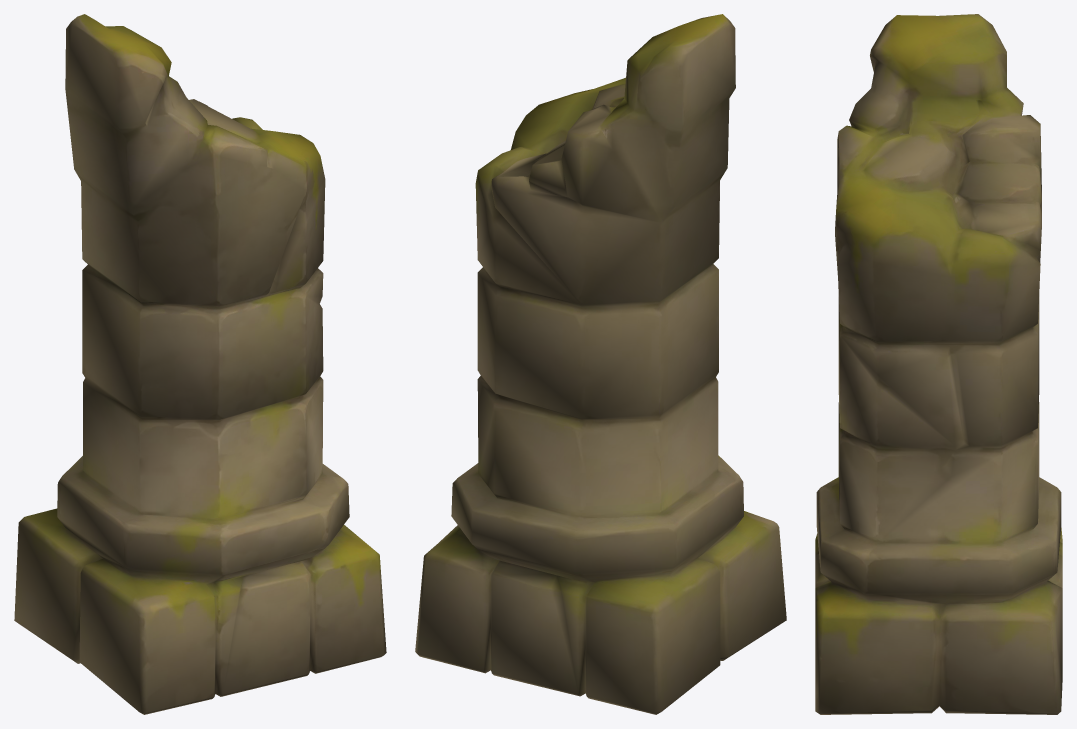
Rendered from SM_FR_BrokenPillar.fbx.
The picture shows the model from 3 angles, left to right: view 1: azimuth 30°, elevation 25°; view 2: azimuth 150°, elevation 25°; view 3: azimuth 270°, elevation 25°; orthographic projection. The views are drawn at different scales.
Visible parts, largest first — view 1: SM_FR_BrokenPillar; view 2: SM_FR_BrokenPillar; view 3: SM_FR_BrokenPillar.
Part boxes in pixels (left/top/right/bottom): SM_FR_BrokenPillar: left=14, top=14, right=386, bottom=714; SM_FR_BrokenPillar: left=415, top=14, right=786, bottom=714; SM_FR_BrokenPillar: left=815, top=14, right=1062, bottom=714.
Bounding box in the file's own units: 1.15 × 2.8 × 1.05.
Materials: 1 (1 with a texture image).
